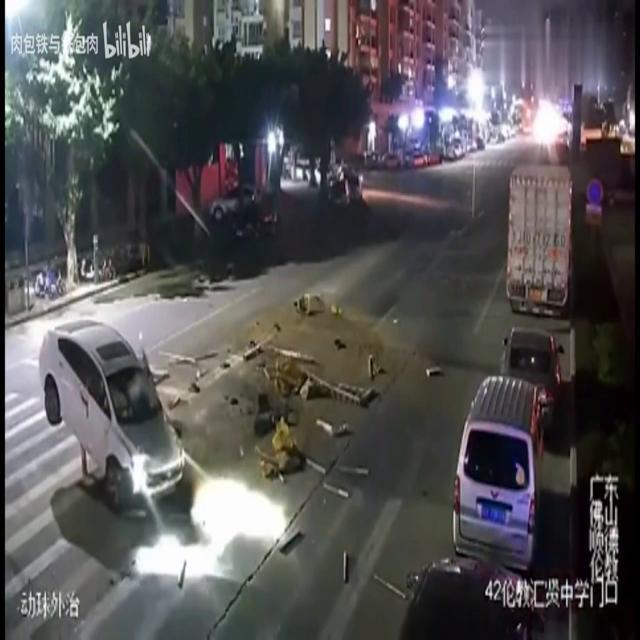normal: (416, 121, 621, 606)
single accident: (0, 283, 227, 553)
